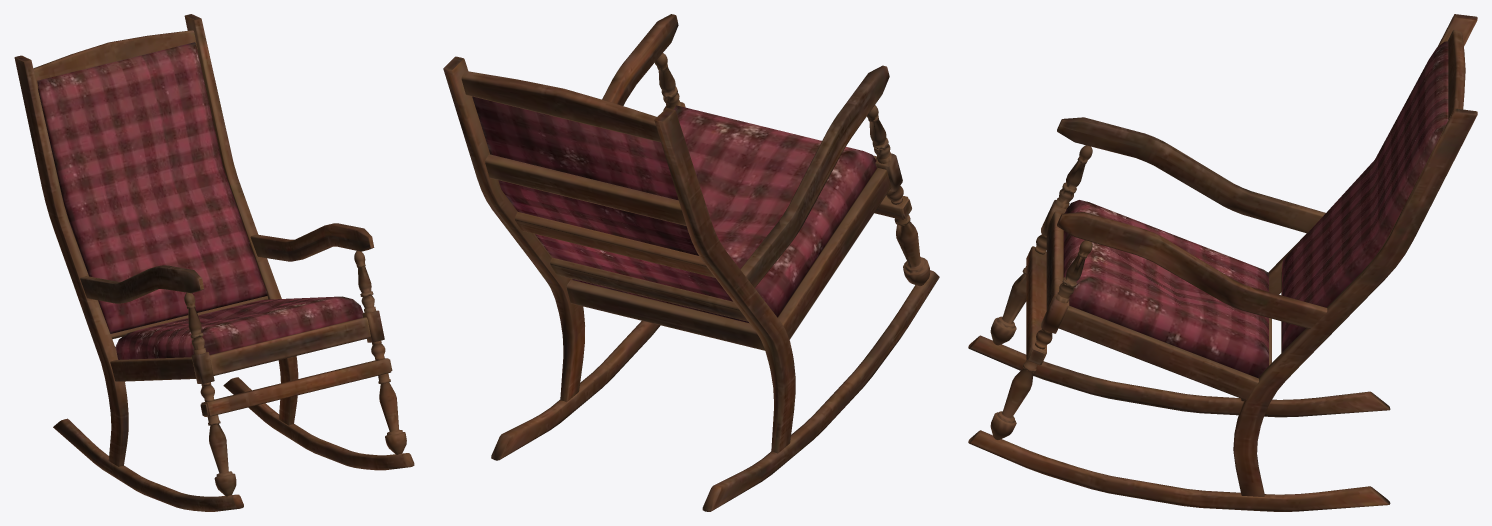
The model's file is rocker2.glb.
3 views of the same model, side by side, from view 1: azimuth 30°, elevation 25°; view 2: azimuth 150°, elevation 25°; view 3: azimuth 270°, elevation 25° (orthographic). The views are drawn at different scales.
Visible parts, largest first — view 1: Rocking_chair_Material #25_0; view 2: Rocking_chair_Material #25_0; view 3: Rocking_chair_Material #25_0.
Part boxes in pixels (left/top/right/bottom): Rocking_chair_Material #25_0: left=14, top=14, right=414, bottom=511; Rocking_chair_Material #25_0: left=443, top=14, right=939, bottom=511; Rocking_chair_Material #25_0: left=968, top=14, right=1477, bottom=511.
Bounding box in the file's own units: 0.2853 × 0.5074 × 0.5847.
Materials: 1 (1 with a texture image).
